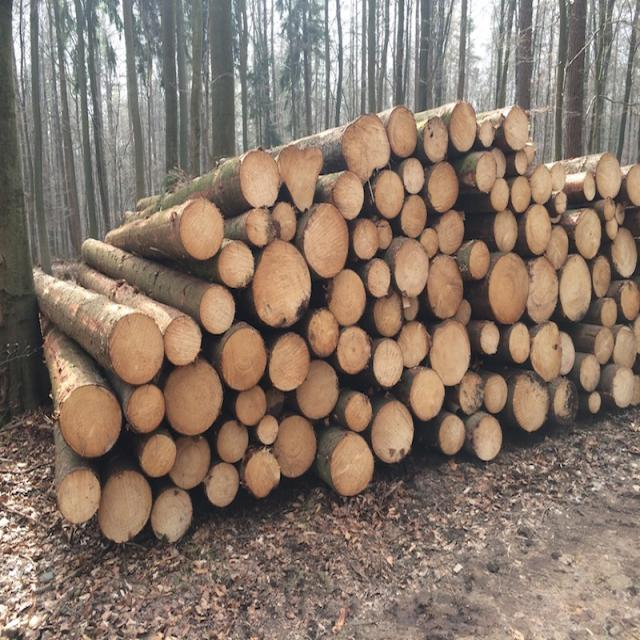wood-log: (252, 241, 314, 328), (163, 360, 225, 438), (58, 385, 123, 457), (110, 314, 166, 385), (101, 471, 155, 544), (300, 204, 352, 279), (342, 115, 392, 181), (218, 327, 267, 393), (487, 253, 529, 324), (279, 145, 324, 210), (330, 433, 375, 495), (372, 399, 416, 462), (429, 320, 471, 385), (296, 360, 340, 420), (268, 332, 312, 391), (181, 201, 226, 258), (275, 416, 316, 478), (426, 254, 464, 320), (56, 468, 100, 524), (558, 254, 593, 322), (239, 150, 280, 208), (328, 268, 368, 326), (512, 371, 550, 431), (170, 436, 212, 489), (152, 489, 193, 543), (391, 240, 429, 298), (530, 255, 561, 324), (408, 366, 446, 421), (126, 385, 166, 435), (164, 316, 203, 366), (530, 323, 563, 381), (199, 284, 236, 334), (245, 447, 282, 497), (216, 241, 254, 289), (426, 162, 461, 211), (337, 327, 372, 375), (140, 432, 176, 478), (373, 168, 406, 218), (332, 170, 366, 218), (306, 308, 340, 356), (388, 108, 419, 158), (206, 462, 240, 507), (524, 206, 555, 255), (372, 339, 403, 387), (610, 228, 639, 279), (399, 322, 431, 368), (374, 292, 405, 339), (449, 101, 477, 153), (575, 209, 603, 260), (474, 415, 504, 461), (504, 106, 534, 151), (218, 421, 250, 463), (236, 384, 268, 426), (594, 152, 621, 200), (401, 195, 431, 236), (611, 364, 639, 406), (438, 210, 466, 252), (425, 116, 450, 162), (344, 393, 372, 433), (364, 258, 392, 298), (270, 201, 298, 241), (457, 371, 483, 414), (439, 413, 466, 454), (352, 220, 378, 262), (244, 209, 272, 247), (493, 210, 517, 252), (546, 226, 570, 267), (484, 374, 508, 413), (468, 240, 491, 280), (401, 158, 425, 195), (619, 278, 640, 320), (510, 324, 532, 364), (579, 354, 603, 390), (591, 258, 611, 298), (257, 414, 281, 445), (511, 178, 532, 213), (594, 328, 614, 364), (481, 323, 501, 356), (490, 180, 510, 212), (626, 162, 640, 205), (599, 298, 617, 327), (515, 149, 534, 175), (588, 392, 603, 412)
